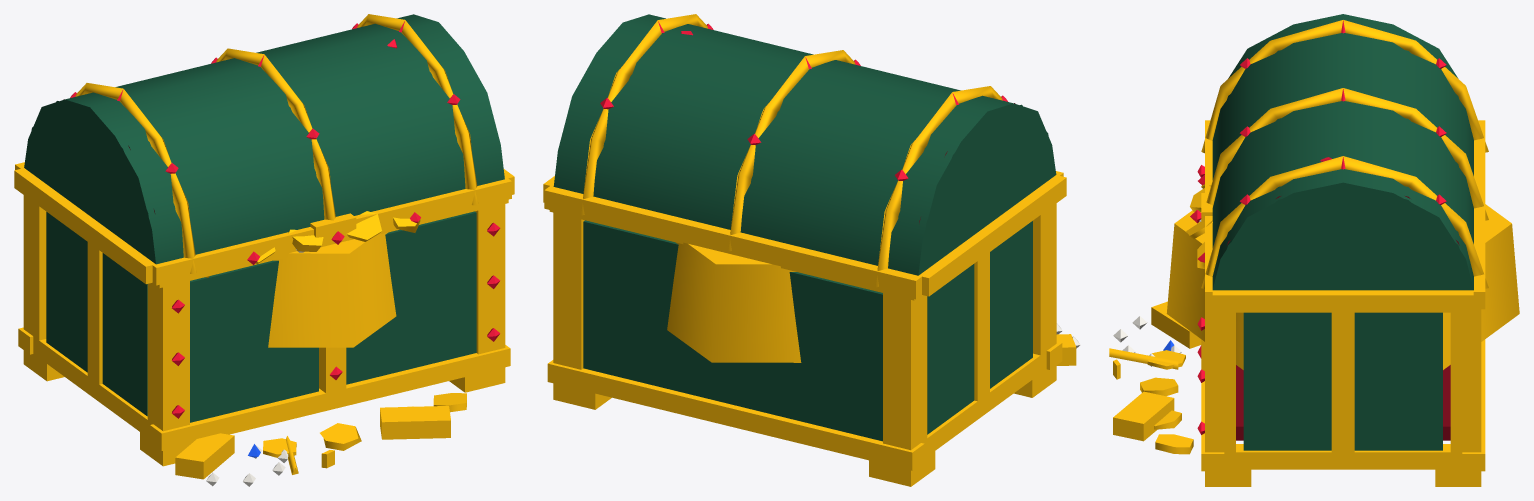
The model's file is chest-grand.glb.
The picture shows the model from 3 angles, left to right: view 1: azimuth 30°, elevation 25°; view 2: azimuth 150°, elevation 25°; view 3: azimuth 270°, elevation 25°; orthographic projection. The views are drawn at different scales.
Parts seen in each view (by area): view 1: base, lid; view 2: lid, base; view 3: lid, base.
Boxes of the visible parts, x1,y1,x2,y2 form: base: (18, 39, 510, 486); lid: (14, 14, 514, 285); lid: (543, 14, 1066, 299); base: (547, 31, 1080, 486); lid: (1190, 14, 1488, 312); base: (1109, 157, 1519, 486).
Size of the model in its own units: 1.1 by 0.91 by 1.07.
